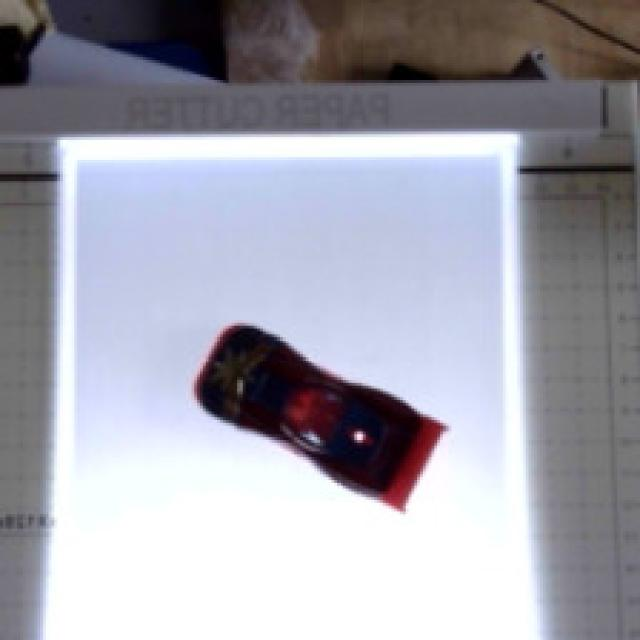Red Car: (172, 291, 479, 580)
